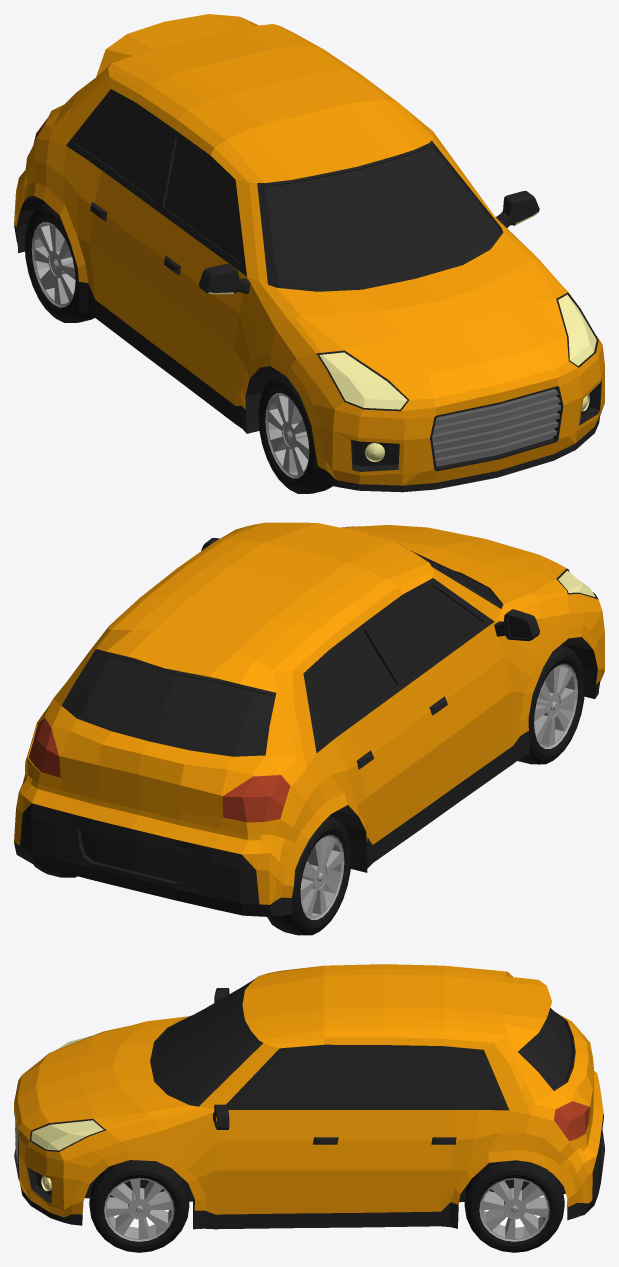
The model's file is Swift.fbx.
The picture shows the model from 3 angles, top to bottom: view 1: azimuth 30°, elevation 25°; view 2: azimuth 150°, elevation 25°; view 3: azimuth 270°, elevation 25°; orthographic projection. The views are drawn at different scales.
Parts seen in each view (by area): view 1: Body.002, Frontright Wheel.001, Backright Wheel.001; view 2: Body.002, Backright Wheel.001, Frontright Wheel.001; view 3: Body.002, Frontleft Wheel.001, Backleft Wheel.001.
Part boxes in pixels (x1,y1,x2,y2): Body.002: [14, 14, 604, 492]; Frontright Wheel.001: [258, 373, 332, 493]; Backright Wheel.001: [24, 203, 94, 322]; Body.002: [14, 522, 604, 916]; Backright Wheel.001: [267, 815, 351, 935]; Frontright Wheel.001: [517, 644, 584, 764]; Body.002: [14, 964, 604, 1229]; Frontleft Wheel.001: [89, 1160, 189, 1252]; Backleft Wheel.001: [464, 1160, 564, 1252].
Size of the model in its own units: 137 by 103 by 261.
Materials: 4 (2 with a texture image).
